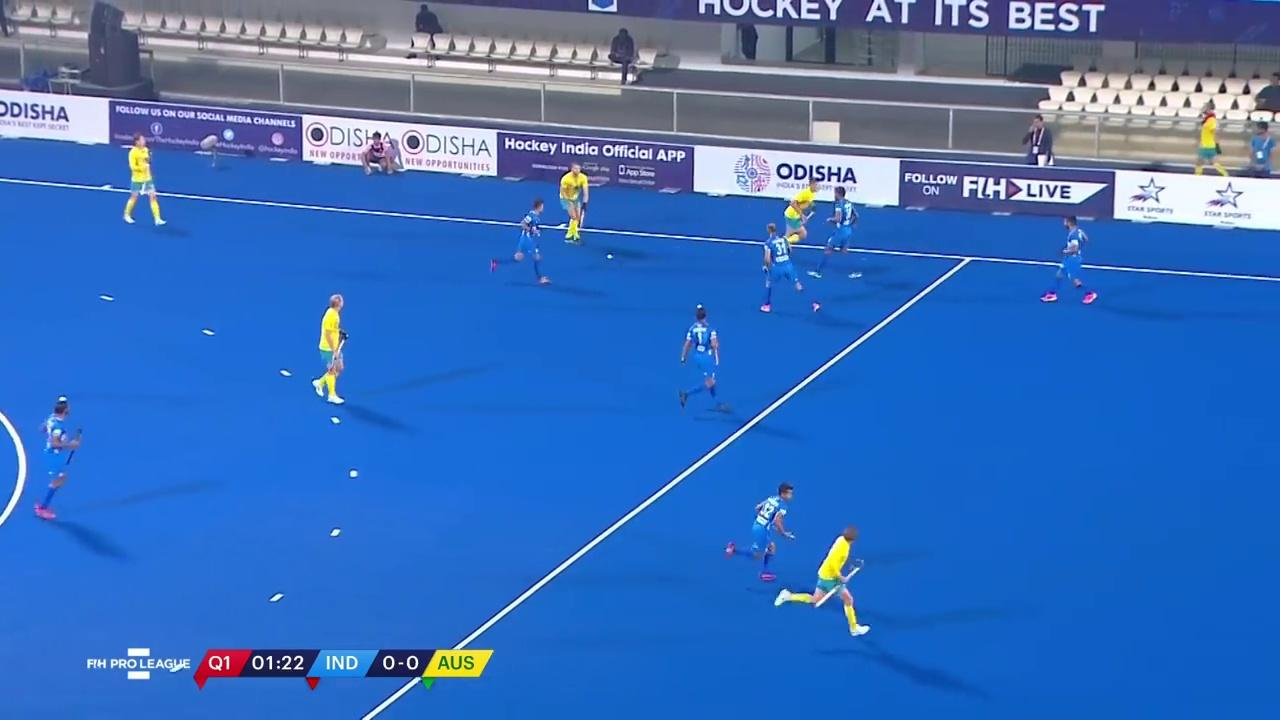ball: (604, 251, 615, 262)
